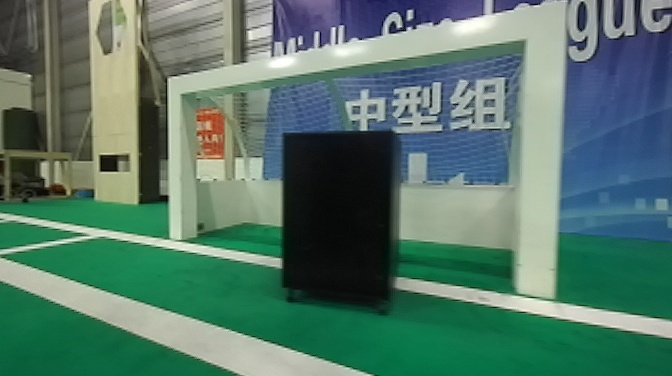goalpost: (516, 4, 560, 308), (170, 78, 199, 240)
